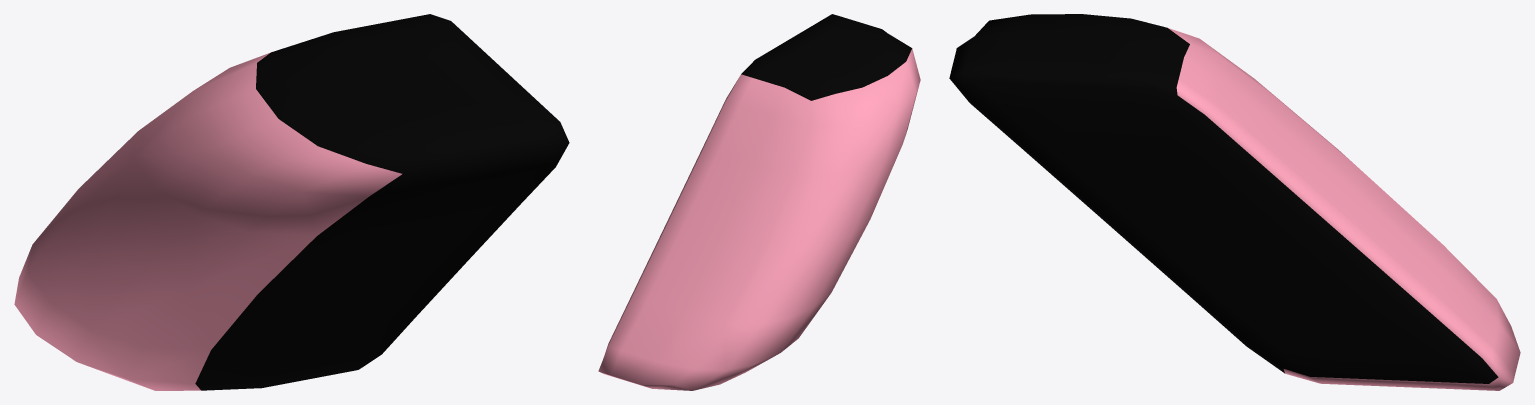
3 renders of one model, left to right at view 1: azimuth 30°, elevation 25°; view 2: azimuth 150°, elevation 25°; view 3: azimuth 270°, elevation 25°, orthographic. The views are drawn at different scales.
Visible parts, largest first — view 1: Box1238; view 2: Box1238; view 3: Box1238.
Boxes of the visible parts, <box> form: Box1238: <box>14,14,569,390</box>; Box1238: <box>598,14,920,390</box>; Box1238: <box>949,14,1520,390</box>.
Bounding box in the file's own units: 0.0271 × 0.0357 × 0.0616.
